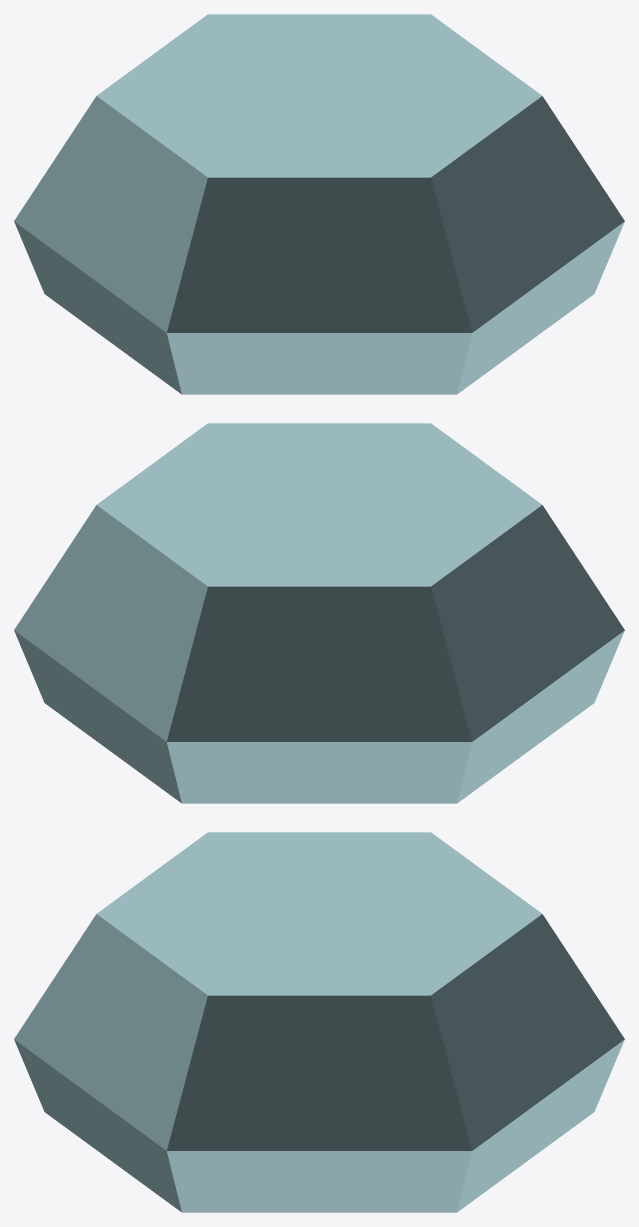
The model's file is stone_small7.obj.
The picture shows the model from 3 angles, top to bottom: view 1: azimuth 30°, elevation 25°; view 2: azimuth 150°, elevation 25°; view 3: azimuth 270°, elevation 25°; orthographic projection.
Visible parts, largest first — view 1: stone_small7; view 2: stone_small7; view 3: stone_small7.
Part boxes in pixels (x1,y1,x2,y2): stone_small7: [14, 14, 624, 394]; stone_small7: [14, 423, 624, 803]; stone_small7: [14, 832, 624, 1212].
Bounding box in the file's own units: 5.94 × 2.45 × 6.86.
